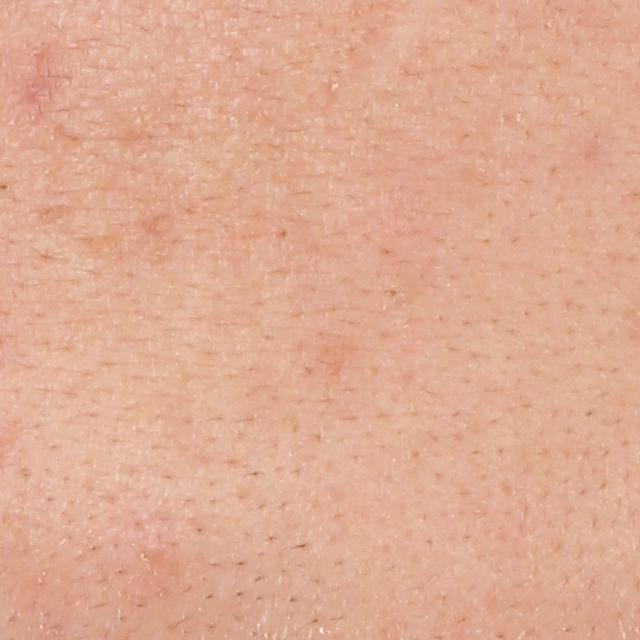comedo: (384, 285, 405, 303)
